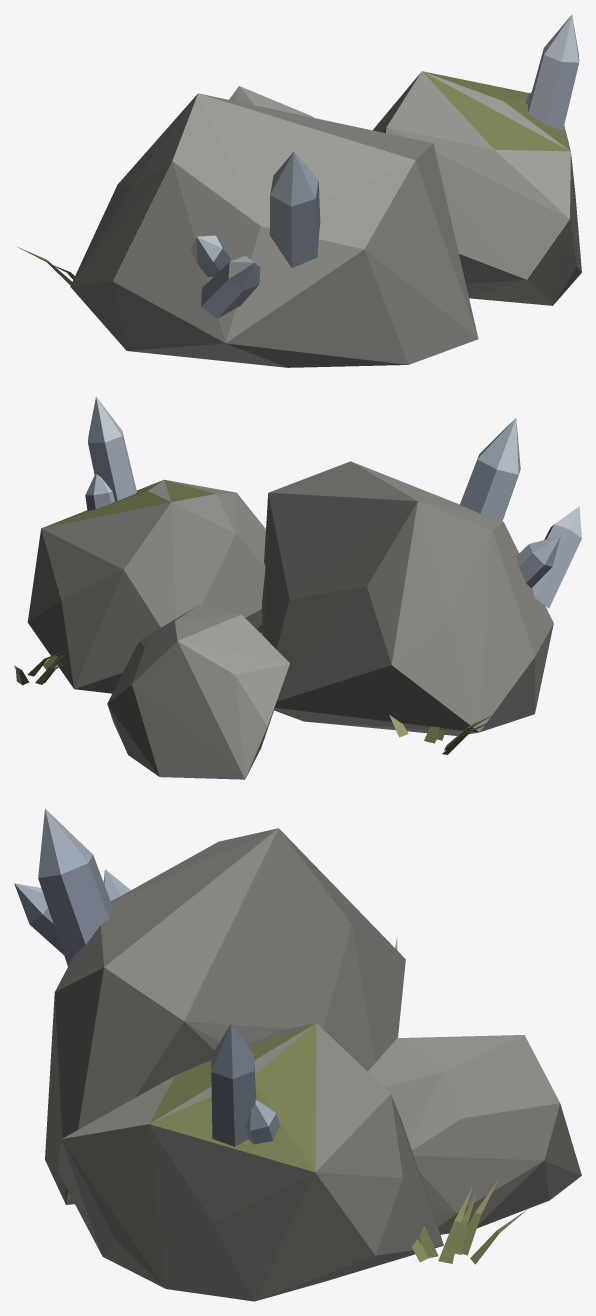
File: rock_temperate_2.glb
3 renders of one model, top to bottom at view 1: azimuth 30°, elevation 25°; view 2: azimuth 150°, elevation 25°; view 3: azimuth 270°, elevation 25°, orthographic. The views are drawn at different scales.
Parts seen in each view (by area): view 1: Body; view 2: Body; view 3: Body.
Boxes of the visible parts, x1,y1,x2,y2 form: Body: (18,14,581,367); Body: (14,396,581,779); Body: (14,809,581,1301).
Bounding box in the file's own units: 3.8 × 1.72 × 3.11.
